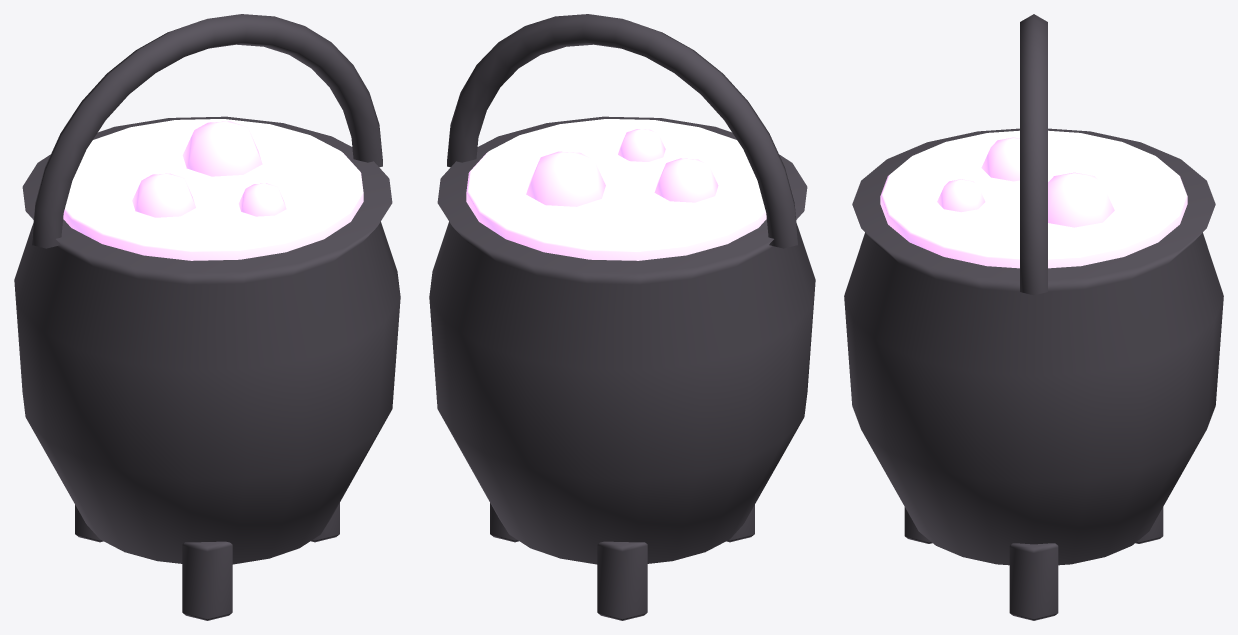
Rendered from Mini_Cauldron.fbx.
3 renders of one model, left to right at view 1: azimuth 30°, elevation 25°; view 2: azimuth 150°, elevation 25°; view 3: azimuth 270°, elevation 25°, orthographic. The views are drawn at different scales.
Parts seen in each view (by area): view 1: Mini_Cauldron_Mesh; view 2: Mini_Cauldron_Mesh; view 3: Mini_Cauldron_Mesh.
Part boxes in pixels (x1,y1,x2,y2): Mini_Cauldron_Mesh: (14,14,400,620); Mini_Cauldron_Mesh: (429,14,815,620); Mini_Cauldron_Mesh: (844,14,1223,620).
Bounding box in the file's own units: 0.098 × 0.144 × 0.094.
